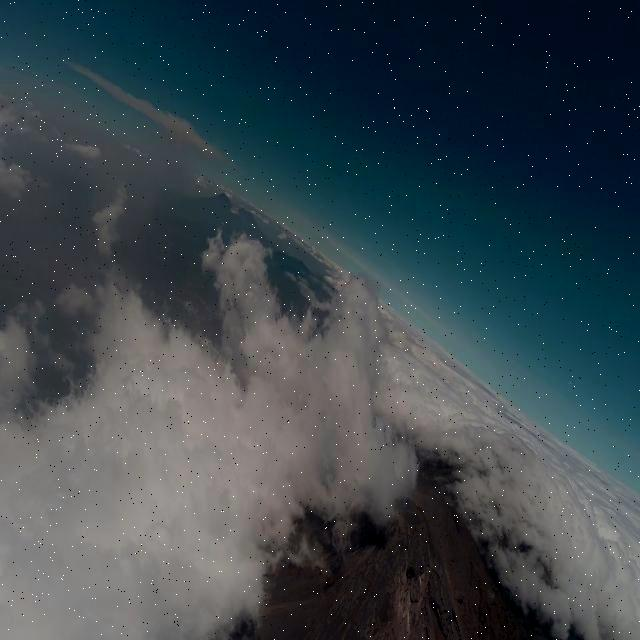Summit: (335, 476, 465, 640)
